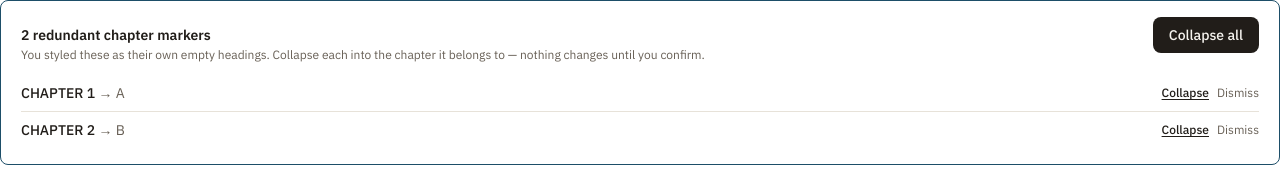
Test: CleanupSuggestionsPanel (STRUCTURE_CLEANUP) › "Dismiss" removes a candidate without collapsing it (session-remembered)
Expected: the text "CHAPTER 1" is shown, [21,84,95,102]
What coordinates should you click on to do the following:
click the button "Dismiss" in the row of "CHAPTER 1"
I would click on:
 (1238, 93)
Its box is [1217,85,1259,101].
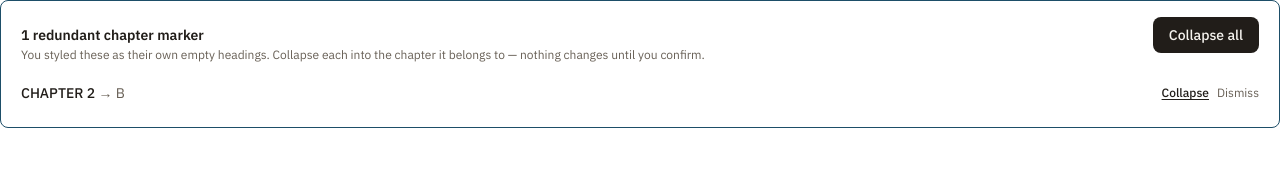
Expected: the text "CHAPTER 2" is shown, [21,84,95,102]
Expected: the text "CHAPTER 1" is gone
Expected: the heading "1 redundant chapter marker" is shown, [21,26,204,44]
